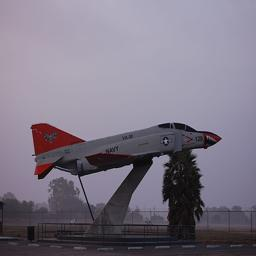aeroplane: (118, 159, 256, 235)
